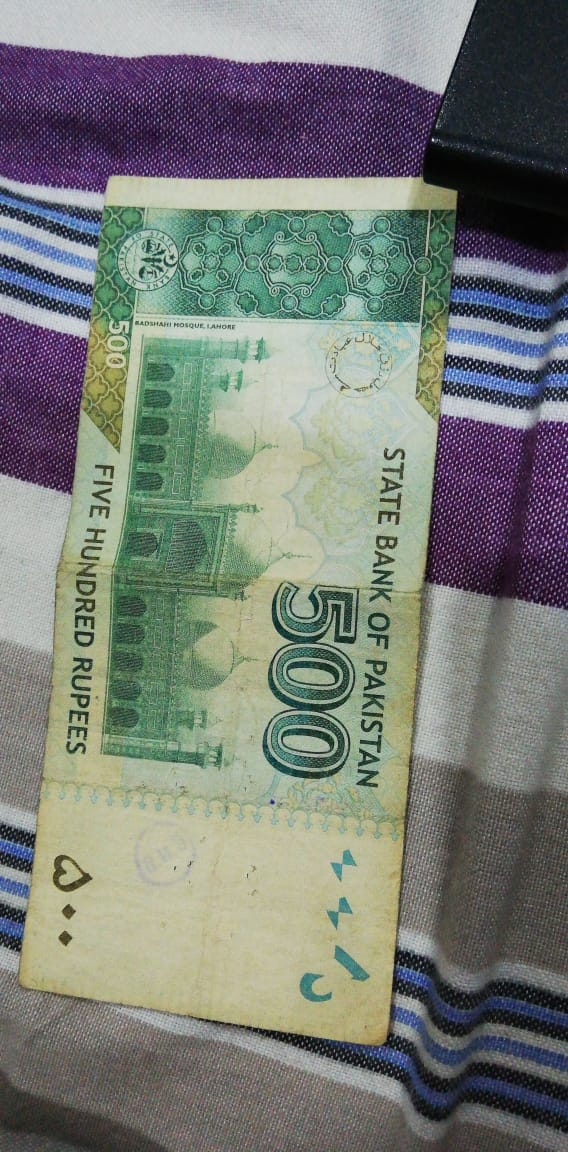500 rupee: (7, 167, 468, 1002)
